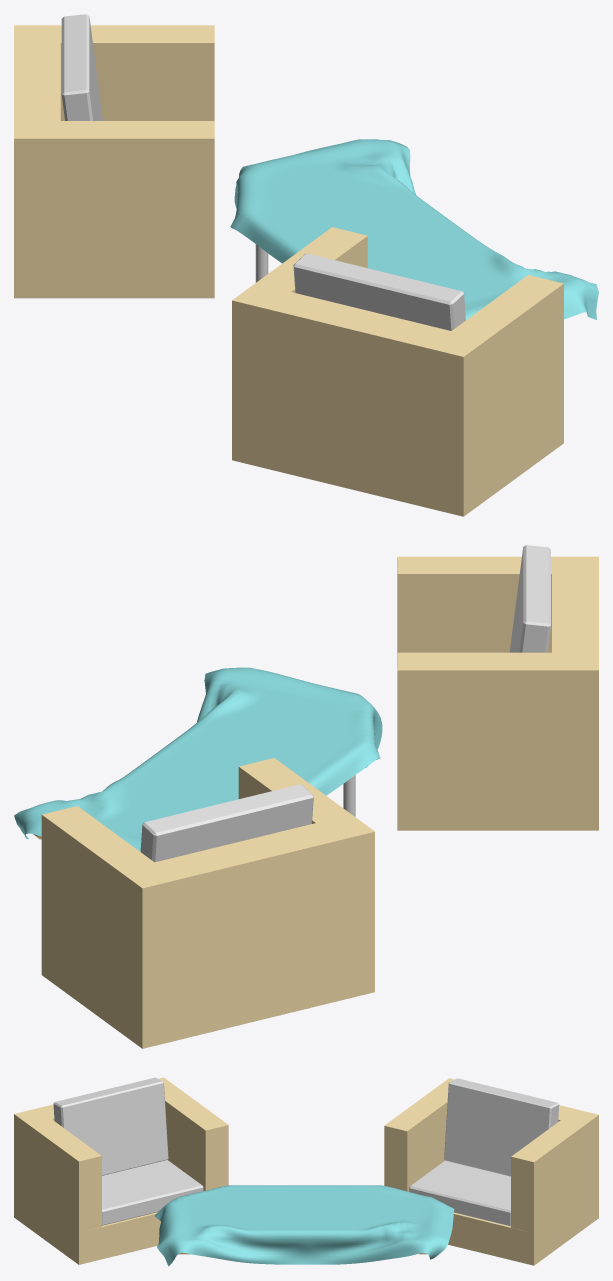
File: Balcony Assets.fbx
3 views of the same model, one above another, from view 1: azimuth 30°, elevation 25°; view 2: azimuth 150°, elevation 25°; view 3: azimuth 270°, elevation 25° (orthographic). The views are drawn at different scales.
Parts seen in each view (by area): view 1: pCube9, pCube17, pPlane2, pCube11, pCube16; view 2: pCube17, pCube9, pPlane2, pCube16, pCube11; view 3: pPlane2, pCube17, pCube9, pCube16, pCube11, pCube18, pCube10.
Boxes of the visible parts, left/top/right/bottom form: pCube9: left=232, top=227, right=563, bottom=516; pCube17: left=14, top=25, right=214, bottom=298; pPlane2: left=230, top=139, right=598, bottom=319; pCube11: left=293, top=253, right=465, bottom=330; pCube16: left=61, top=14, right=102, bottom=120; pCube17: left=41, top=758, right=374, bottom=1048; pCube9: left=397, top=556, right=598, bottom=830; pPlane2: left=14, top=667, right=382, bottom=851; pCube16: left=140, top=784, right=313, bottom=862; pCube11: left=509, top=545, right=550, bottom=652; pPlane2: left=155, top=1185, right=454, bottom=1266; pCube17: left=384, top=1078, right=598, bottom=1265; pCube9: left=14, top=1077, right=228, bottom=1264; pCube16: left=444, top=1078, right=559, bottom=1176; pCube11: left=53, top=1077, right=168, bottom=1175; pCube18: left=409, top=1160, right=510, bottom=1226; pCube10: left=102, top=1160, right=203, bottom=1225.
Bounding box in the file's own units: 51.24 × 24.72 × 106.
